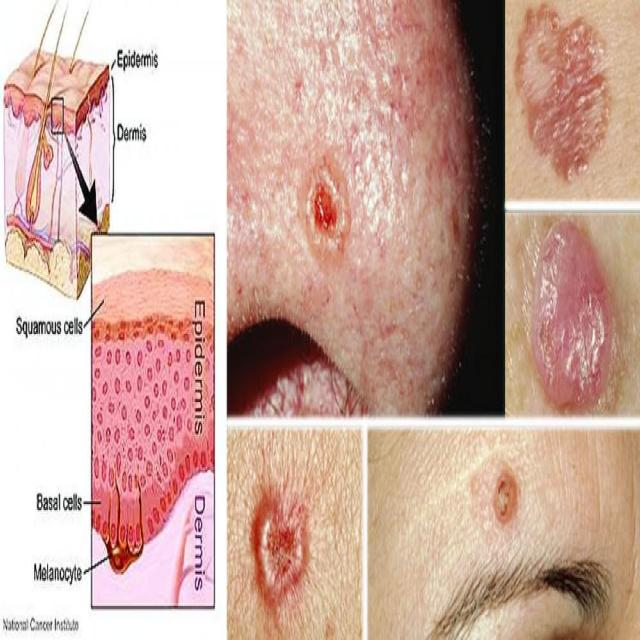Cancer: (506, 0, 620, 185), (243, 463, 323, 626), (291, 154, 363, 272), (485, 451, 529, 530)
